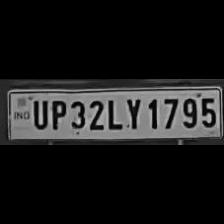1: (144, 96, 159, 130)
2: (86, 96, 104, 132)
3: (67, 97, 85, 129)
5: (199, 94, 217, 128)
7: (158, 96, 178, 130)
9: (178, 94, 198, 128)
L: (104, 96, 122, 130)
P: (47, 97, 66, 129)
U: (29, 96, 47, 130)
Y: (123, 96, 143, 130)
